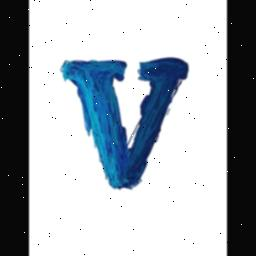v: (46, 50, 196, 202)
